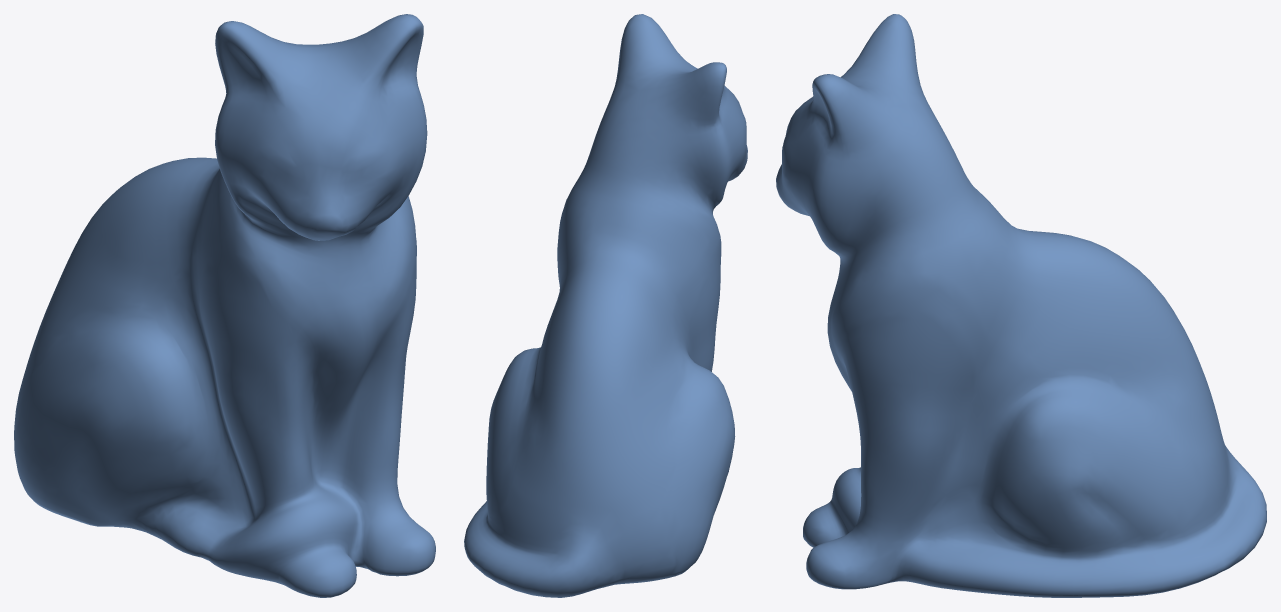
The model's file is concrete_cat_statue_1k.glb.
The picture shows the model from 3 angles, left to right: view 1: azimuth 30°, elevation 25°; view 2: azimuth 150°, elevation 25°; view 3: azimuth 270°, elevation 25°; orthographic projection. The views are drawn at different scales.
Parts seen in each view (by area): view 1: concrete_cat_statue; view 2: concrete_cat_statue; view 3: concrete_cat_statue.
Boxes of the visible parts, left/top/right/bottom form: concrete_cat_statue: left=14, top=14, right=435, bottom=597; concrete_cat_statue: left=464, top=14, right=747, bottom=597; concrete_cat_statue: left=776, top=14, right=1266, bottom=597.
Bounding box in the file's own units: 0.153 × 0.283 × 0.25.
1 material, 1 textured.
